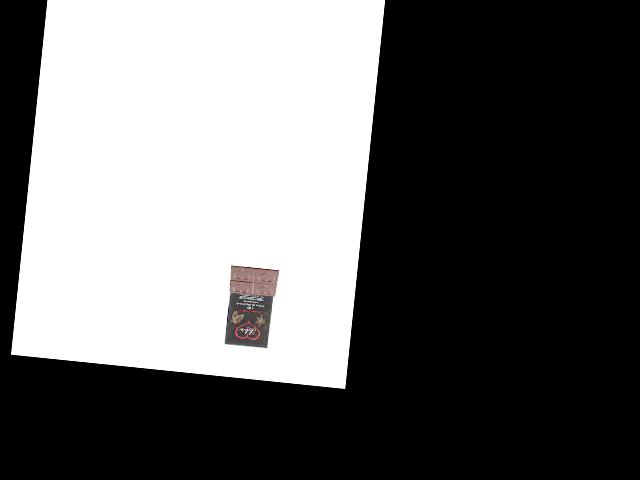chocolate: (221, 262, 283, 349)
